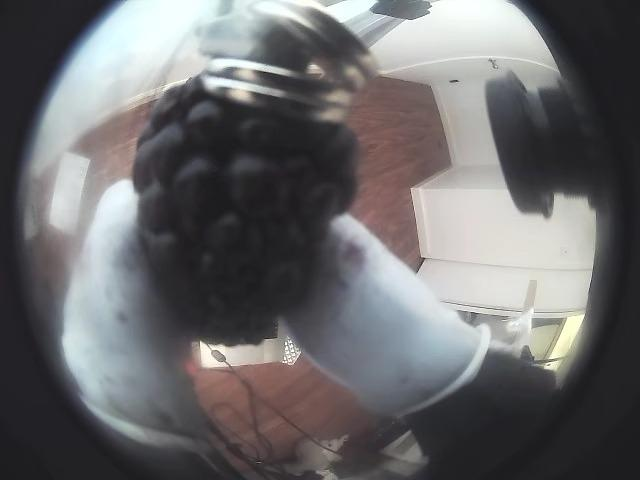berry: (133, 76, 355, 344)
gripper: (281, 214, 488, 415), (62, 180, 204, 449)
lense: (428, 0, 639, 479), (0, 0, 175, 479)
